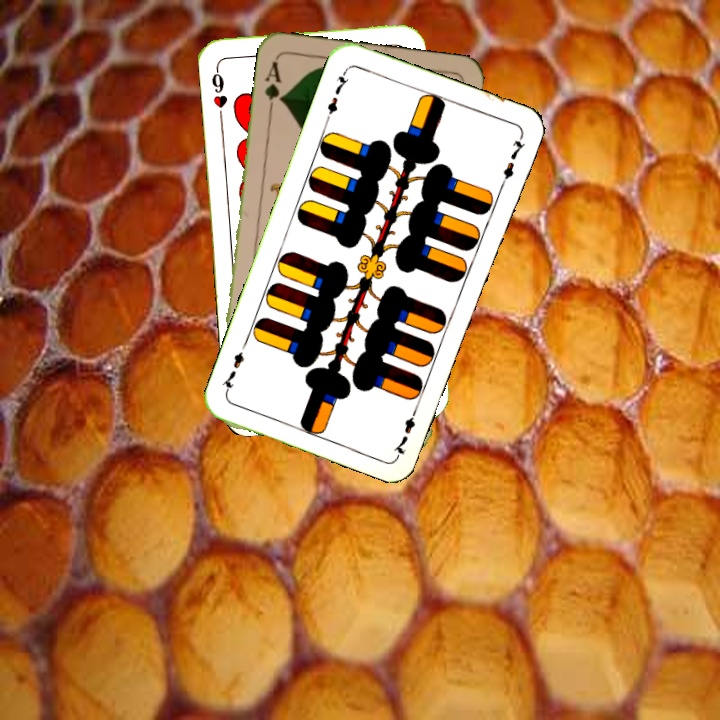E7: (389, 401, 421, 458), (322, 66, 352, 123)
GA: (261, 57, 286, 115)
H9: (207, 62, 230, 121)
